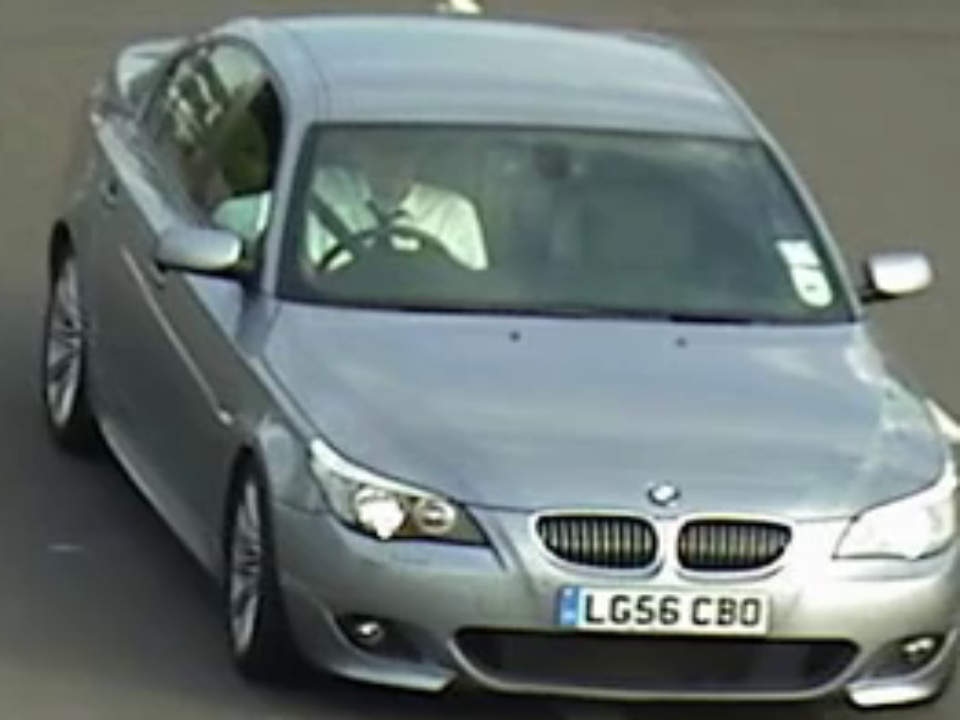ONE: (283, 123, 843, 330)
